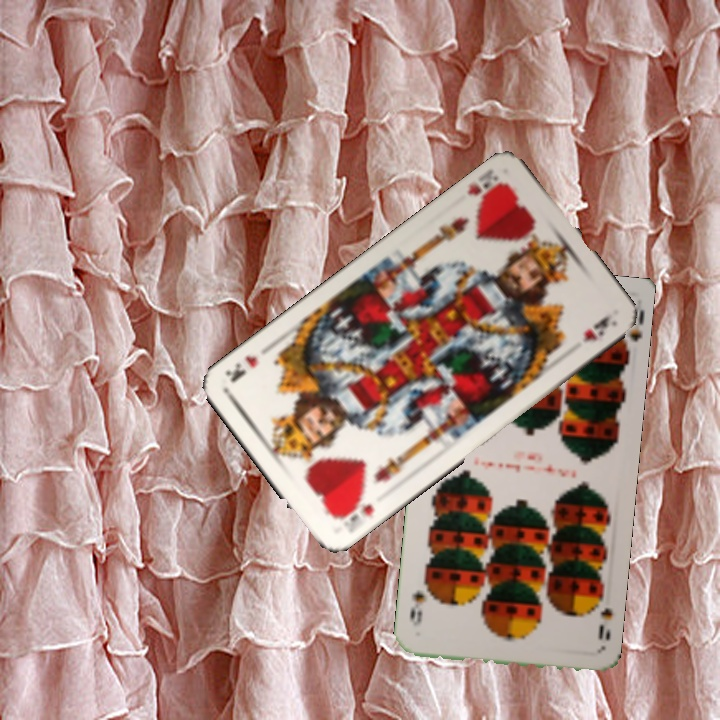HK: (462, 165, 510, 209), (331, 493, 377, 528)
S9: (589, 590, 615, 643)
